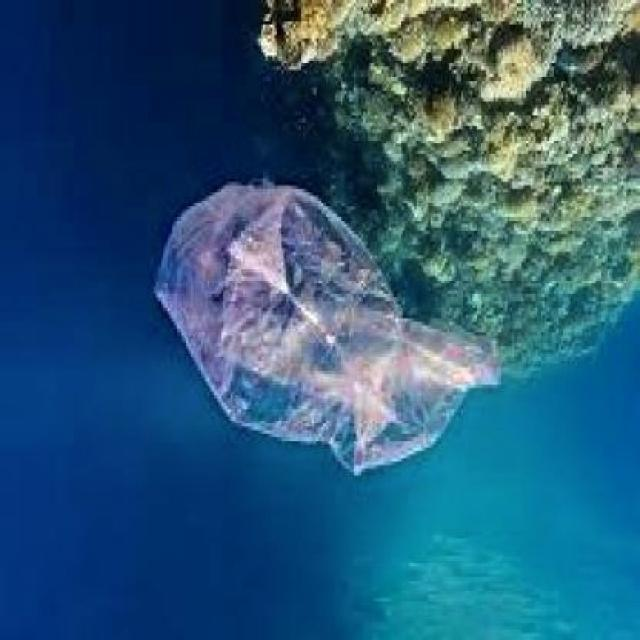pbag: (154, 178, 503, 479)
